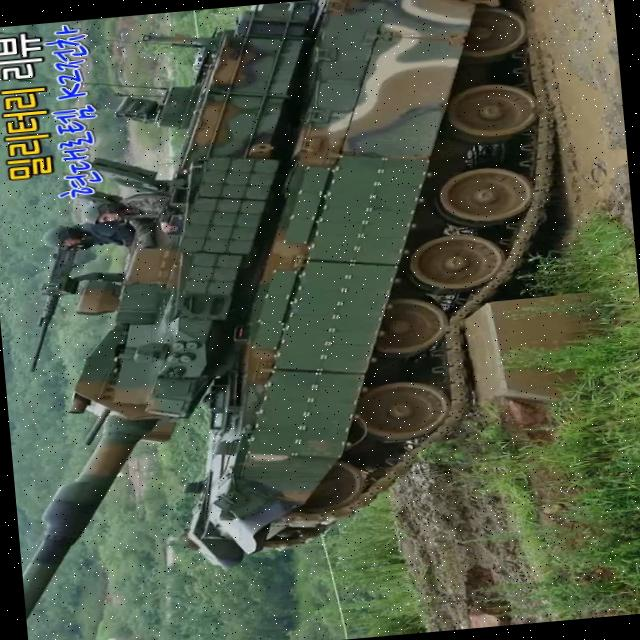korea tank: (0, 0, 591, 622)
